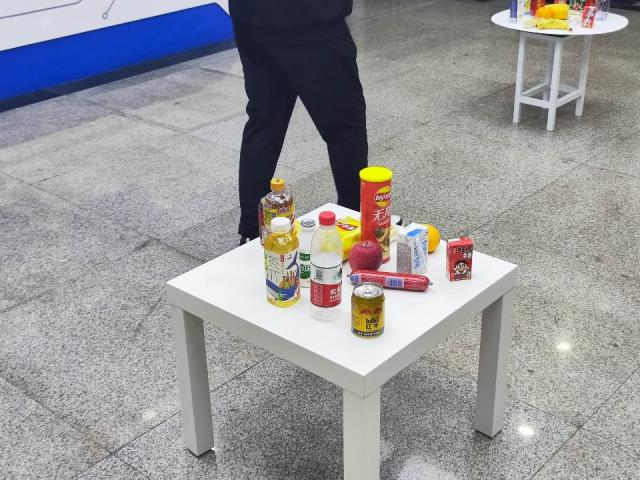Canned_drinks: (354, 284, 386, 338)
bottle: (310, 208, 341, 324)
drink_box: (395, 219, 430, 278), (444, 237, 476, 284)
